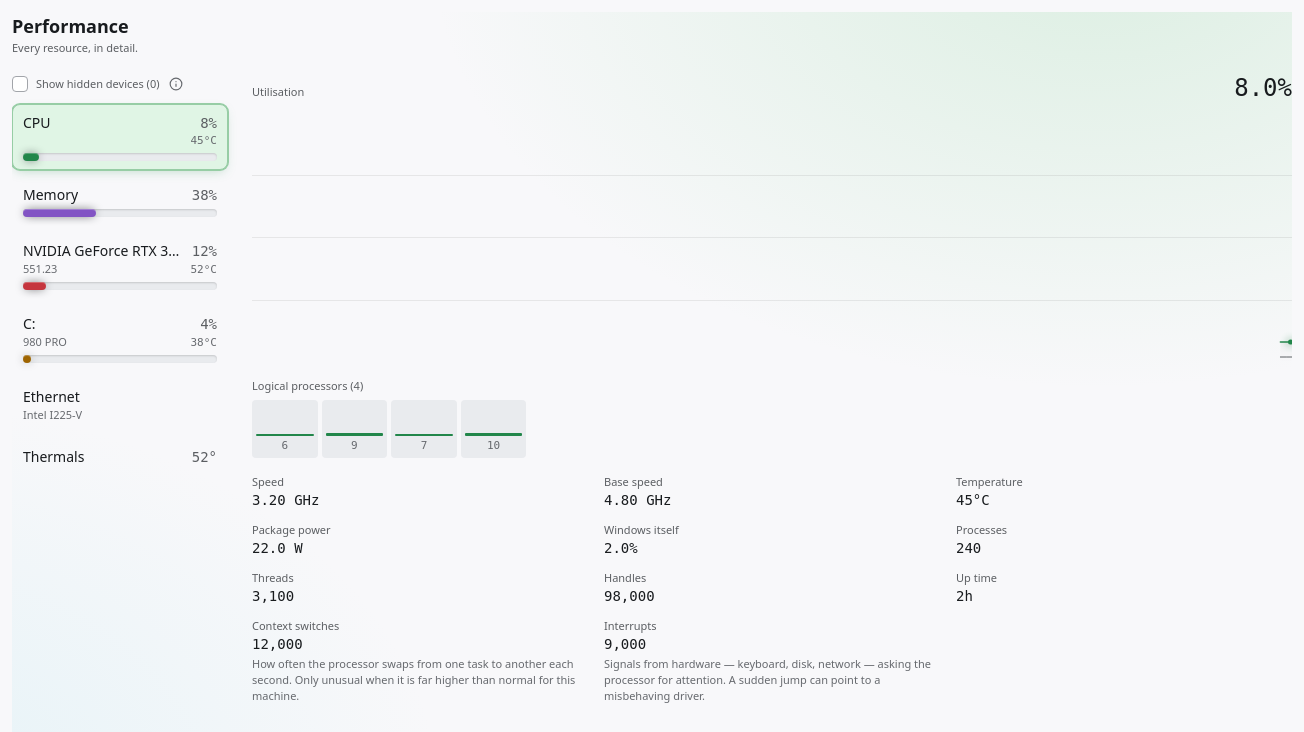
Test case: PerformanceScreen › offers CPU a copy-summary menu but no Hide, since it cannot be hidden
This screenshot has width=1304, height=732.
Right-click the button "CPU 8% 45°C": (120, 137) [12,104,228,170]
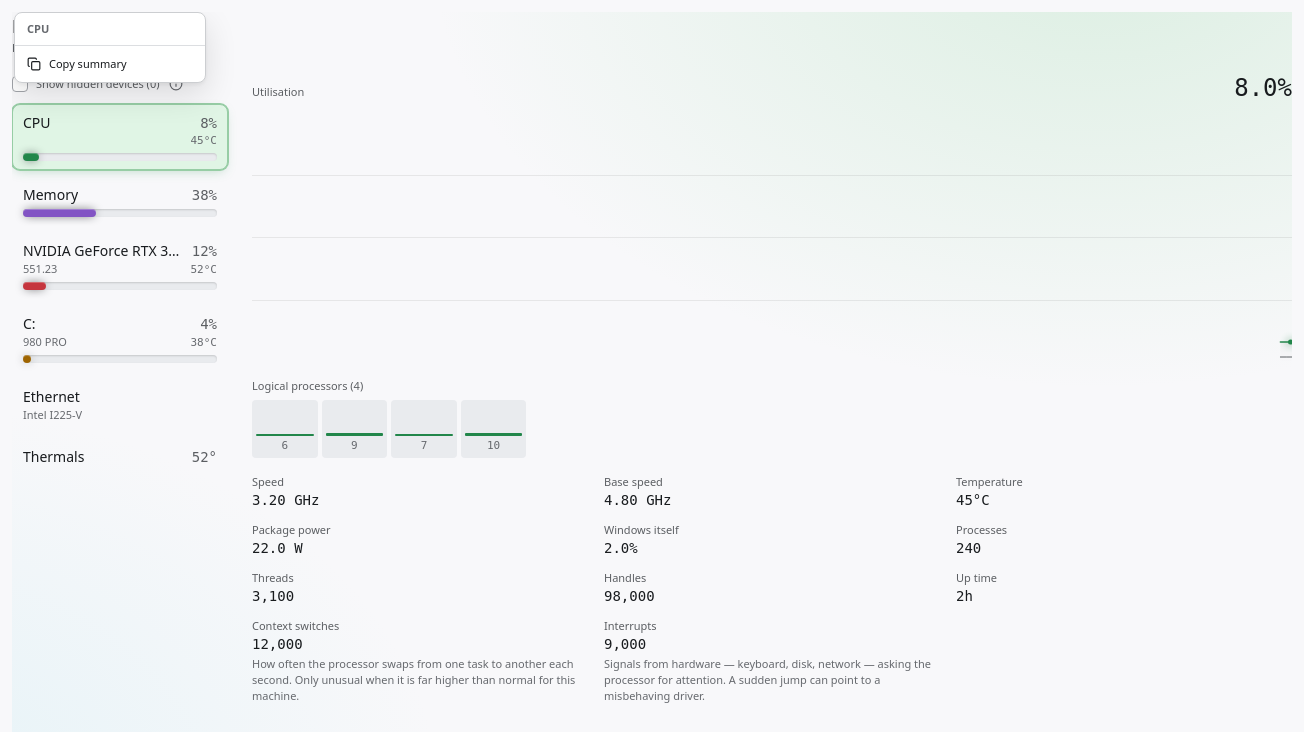
Check: the menu item "Copy summary" is shown, box [27,56,127,71]
